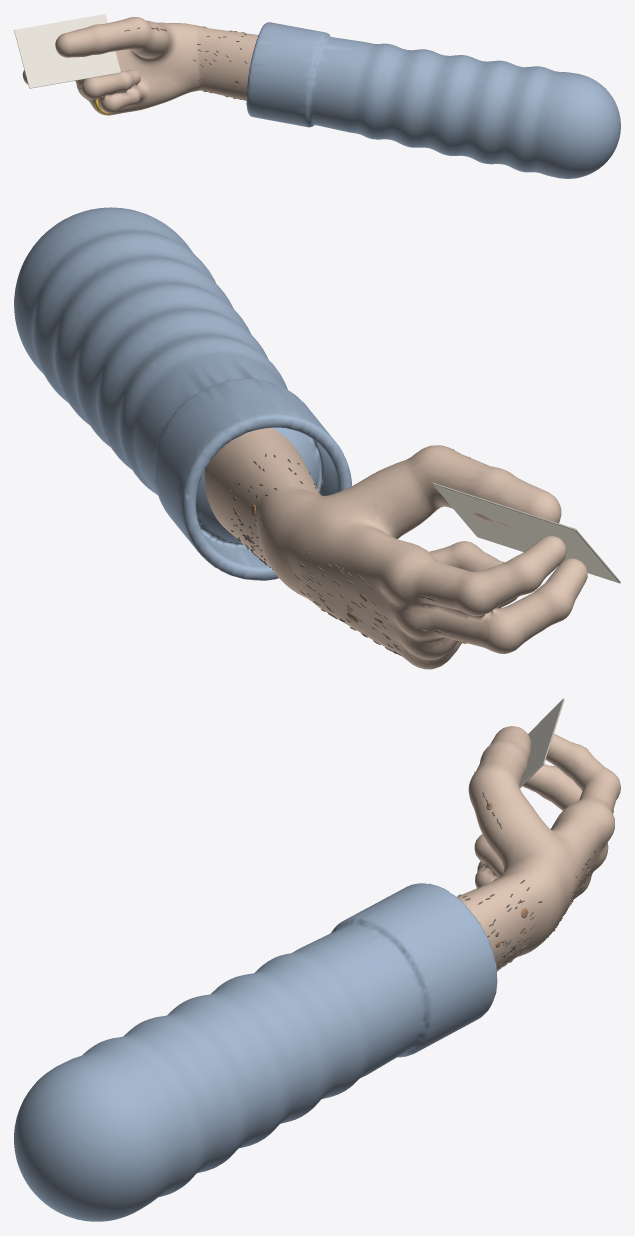
Rendered from gary_right_card.glb.
The picture shows the model from 3 angles, top to bottom: view 1: azimuth 30°, elevation 25°; view 2: azimuth 150°, elevation 25°; view 3: azimuth 270°, elevation 25°; orthographic projection. The views are drawn at different scales.
Parts seen in each view (by area): view 1: gary_right_card, card, gary_right_card_detail; view 2: gary_right_card, card_body, gary_right_card_detail; view 3: gary_right_card, card, gary_right_card_detail.
Part boxes in pixels (left/top/right/bottom): gary_right_card: left=22, top=17, right=620, bottom=178; card: left=14, top=14, right=120, bottom=87; gary_right_card_detail: left=79, top=26, right=247, bottom=114; gary_right_card: left=14, top=207, right=587, bottom=669; card_body: left=432, top=483, right=620, bottom=583; gary_right_card_detail: left=229, top=449, right=470, bottom=655; gary_right_card: left=14, top=726, right=620, bottom=1221; card: left=520, top=699, right=562, bottom=785; gary_right_card_detail: left=457, top=764, right=613, bottom=971.
Bounding box in the file's own units: 0.4553 × 0.1313 × 0.337.
